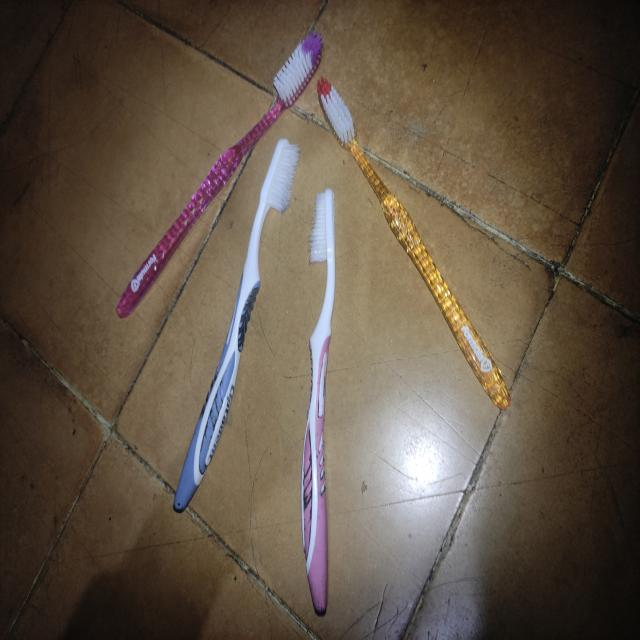toothbrush: (96, 20, 338, 358), (306, 76, 523, 422), (154, 123, 302, 548), (284, 180, 347, 640)
